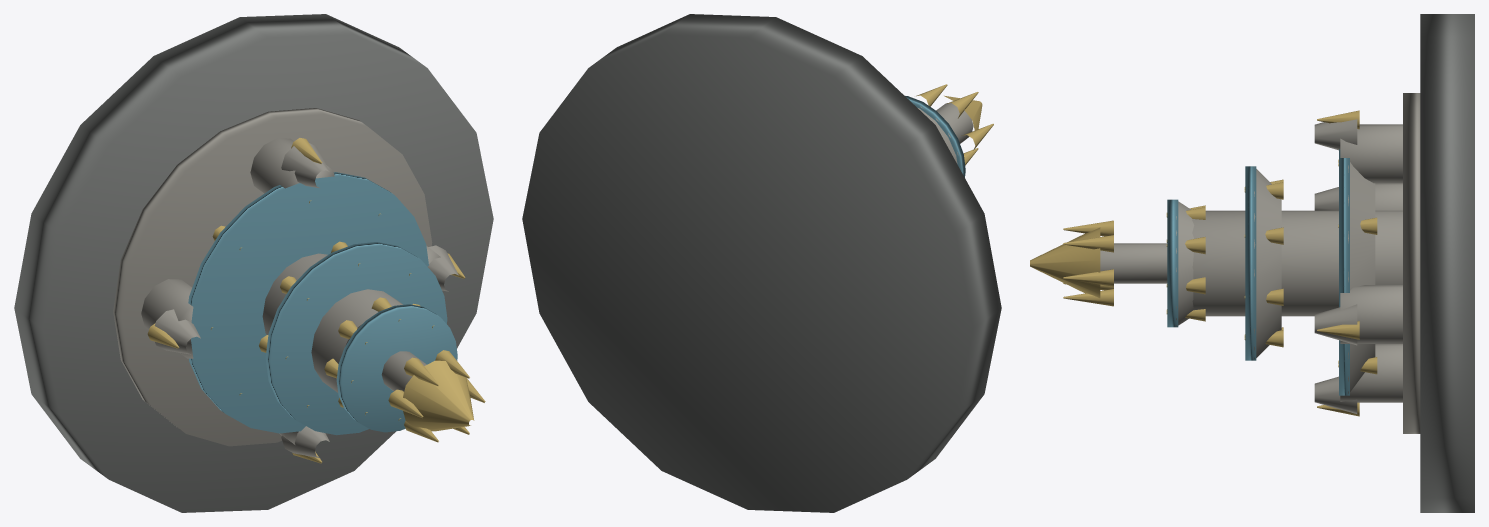
Rendered from grand_royal_fountain_hd.glb.
3 renders of one model, left to right at view 1: azimuth 30°, elevation 25°; view 2: azimuth 150°, elevation 25°; view 3: azimuth 270°, elevation 25°, orthographic. The views are drawn at different scales.
Size of the model in its own units: 6.4 by 6.4 by 5.7.
